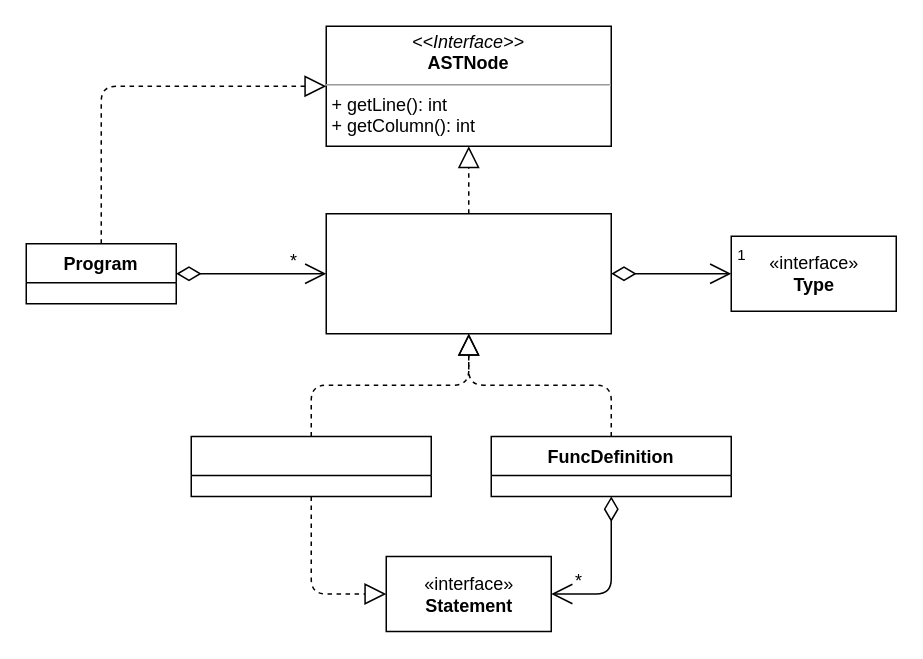
The diagram is 923 pixels wide and 659 high, and some of its shapes have lost their labels. The shapes that lost their labels are listed below. From the top down, each one's box as (x1, y1, x2, y2) in pixels, then its label:
(325, 212, 611, 334): <<Interface>> Definition + getName(): String + getType(): Type
(190, 435, 431, 496): VarDefinition
